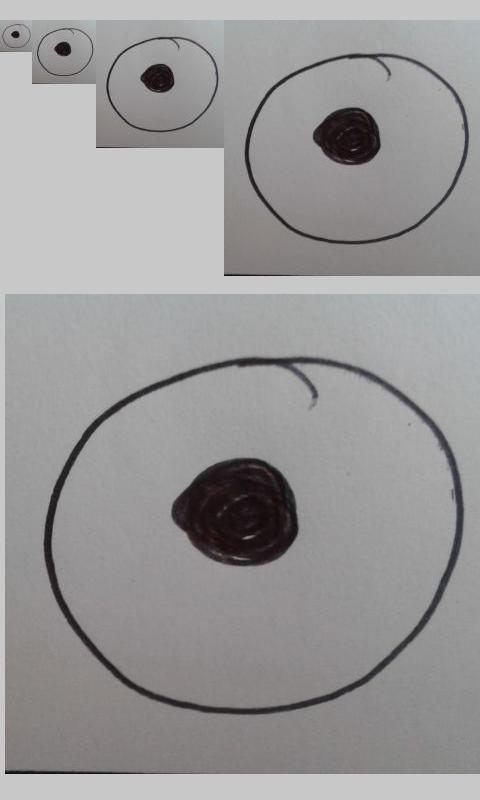radio_button: (40, 353, 468, 718), (243, 52, 470, 245), (105, 35, 219, 133), (36, 27, 94, 77), (1, 23, 31, 49)
